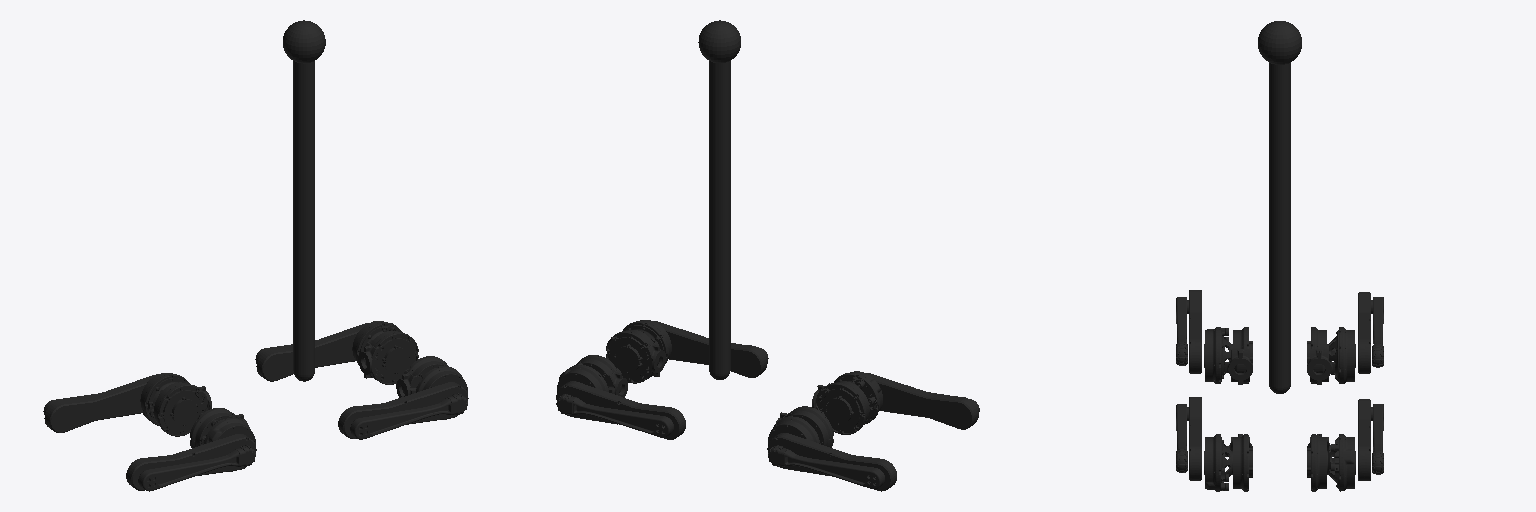
--- What the picture shows (computed from the rendered views, not written in the file) ---
3 views of the same robot in one strip: view 1: azimuth 30°, elevation 25°; view 2: azimuth 150°, elevation 25°; view 3: azimuth 270°, elevation 25° (orthographic).
Model spirit with 20 links and 19 joints (14 revolute, 5 fixed), rooted at body, posed every joint at zero.
Visible links, largest first — view 1: tail_link_1, hip1, hip0, upper1, upper0, upper3, upper2, lower2, lower3, hip2, hip3, tail_mass; view 2: tail_link_1, hip3, hip2, upper3, upper2, upper0, upper1, lower1, lower0, hip0, hip1, tail_mass; view 3: tail_link_1, hip2, hip3, hip0, hip1, tail_mass, upper2, upper3, upper0, upper1, lower0, lower1 (+2 smaller).
Boxes of the visible links, <box> form: tail_link_1: <box>293,61,314,374</box>; hip1: <box>140,373,211,436</box>; hip0: <box>352,321,418,384</box>; upper1: <box>44,374,157,432</box>; upper0: <box>256,323,367,381</box>; upper3: <box>126,434,256,490</box>; upper2: <box>338,382,468,438</box>; lower2: <box>350,393,467,439</box>; lower3: <box>138,445,255,491</box>; hip2: <box>396,356,467,419</box>; hip3: <box>190,408,255,471</box>; tail_mass: <box>283,20,325,63</box>; tail_link_1: <box>709,61,730,373</box>; hip3: <box>812,371,882,434</box>; hip2: <box>606,320,671,383</box>; upper3: <box>866,373,978,429</box>; upper2: <box>654,321,767,377</box>; upper0: <box>556,381,685,439</box>; upper1: <box>767,433,896,491</box>; lower1: <box>768,445,884,488</box>; lower0: <box>556,394,673,437</box>; hip0: <box>557,355,627,397</box>; hip1: <box>768,406,833,447</box>; tail_mass: <box>698,20,740,62</box>; tail_link_1: <box>1269,63,1290,387</box>; hip2: <box>1204,434,1252,491</box>; hip3: <box>1204,327,1252,384</box>; hip0: <box>1307,434,1355,491</box>; hip1: <box>1307,327,1355,384</box>; tail_mass: <box>1258,21,1301,64</box>; upper2: <box>1189,397,1201,480</box>; upper3: <box>1189,290,1201,373</box>; upper0: <box>1358,399,1370,480</box>; upper1: <box>1358,292,1370,373</box>; lower0: <box>1371,404,1383,474</box>; lower1: <box>1371,297,1383,367</box>.
Size in the robot's own frame: 0.7392 by 0.3719 by 0.8136 metres.
12 mesh visuals loaded from 4 distinct referenced files (3 binary STL); not drawn: 1 (reference not matched to a file when rendering).

URDF robot description (spirit):
<?xml version="1.0" encoding="utf-8"?>
<!-- =================================================================================== -->
<!-- |    This document was autogenerated by xacro from spirit40_gaz.urdf.xacro        | -->
<!-- |    EDITING THIS FILE BY HAND IS NOT RECOMMENDED                                 | -->
<!-- =================================================================================== -->
<!--
 * Copyright (C) Ghost Robotics - All Rights Reserved
 * Unauthorized copying of this file, via any medium is strictly prohibited
 * Proprietary and confidential
 * Written by Avik De <[email redacted]> and Tom Jacobs <[email redacted]>
-->
<robot name="spirit">
  <!-- Define materials -->
  <material name="gray">
    <color rgba="0.2 0.2 0.2 1.0"/>
  </material>
  <material name="darkgray">
    <color rgba="0.1 0.1 0.1 1.0"/>
  </material>
  <material name="silver">
    <color rgba="0.3 0.3 0.3 1.0"/>
  </material>
  <material name="red">
    <color rgba="0.8 0.0 0.2 1.0"/>
  </material>
  <!-- Body -->
  <link name="body">
    <!--		<visual>-->
    <!--			<origin rpy="0 0 0" xyz="0 0 0"/>-->
    <!--			<geometry>-->
    <!--				<box size="${bodyLength} ${bodyWidth} ${bodyHeight}"/>-->
    <!--			</geometry>-->
    <!--			<material name="darkgray"/>-->
    <!--		</visual>-->
    <visual>
      <origin rpy="0 0 0" xyz="0.03 0 0"/>
      <geometry>
        <mesh filename="package://spirit_description/meshes/Spirit40_Body_Mesh_transformed.stl" scale="1 1 1"/>
      </geometry>
      <material name="gray"/>
    </visual>
    <inertial>
      <mass value="5.75"/>
      <!-- Uniform box -->
      <!-- <inertia ixx="1/12*${bodyMass}*(${bodyWidth}*${bodyWidth} + ${bodyHeight}*${bodyHeight})"  ixy="0"  ixz="0" iyy="1/12*${bodyMass}*(${bodyLength}*${bodyLength} + ${bodyHeight}*${bodyHeight})" iyz="0" izz="1/12*${bodyMass}*(${bodyLength}*${bodyLength} + ${bodyWidth}*${bodyWidth})"/> -->
      <inertia ixx="0.05" ixy="0" ixz="0" iyy="0.1" iyz="0" izz="0.1"/>
    </inertial>
    <!-- Just copy geometry for collision -->
    <collision>
      <origin rpy="0 0 0" xyz="0 0 0"/>
      <geometry>
        <box size="0.335 0.24 0.104"/>
      </geometry>
    </collision>
  </link>
  <gazebo reference="body">
    <gravity>true</gravity>
    <sensor name="imu_sensor" type="imu">
      <always_on>true</always_on>
      <visualize>true</visualize>
      <topic>__default_topic_</topic>
      <plugin filename="libgazebo_ros_imu_sensor.so" name="imu_plugin">
        <topicName>imu</topicName>
        <bodyName>body</bodyName>
        <updateRateHZ>500.0</updateRateHZ>
        <gaussianNoise>0.0</gaussianNoise>
        <xyzOffset>0 0 0</xyzOffset>
        <rpyOffset>0 0 0</rpyOffset>
        <frameName>body</frameName>
        <initialOrientationAsReference>true</initialOrientationAsReference>
      </plugin>
      <pose>0 0 0 0 0 0</pose>
    </sensor>
  </gazebo>
  <!-- Hip motor -->
  <link name="hip0">
    <!--			<visual>-->
    <!--				<origin rpy="${pi/2} 0 0" xyz="${front * 0} ${left * (dPodAxisToEdge)} 0"/>-->
    <!--				<geometry>-->
    <!--					<cylinder length="${podLength}" radius="${podRadius}"/>-->
    <!--				</geometry>-->
    <!--				<material name="${color}"/>-->
    <!--			</visual>-->
    <visual>
      <origin rpy="0 0 0" xyz="0 0.0 0"/>
      <geometry>
        <mesh filename="package://spirit_description/meshes/Spirit40_Hip_Module_transformed.stl" scale="1 1 1"/>
      </geometry>
      <material name="gray"/>
    </visual>
    <collision>
      <origin rpy="1.5707963268 0 0" xyz="0 0.028 0"/>
      <geometry>
        <cylinder length="0.08" radius="0.055"/>
      </geometry>
    </collision>
    <inertial>
      <mass value="0.575"/>
      <!-- <inertia ixx="1/12*${podMass}*${podLength}*${podLength} + 1/4*${podMass}*${podRadius}*${podRadius}"  ixy="0"  ixz="0" iyy="1/12*${podMass}*${podLength}*${podLength} + 1/4*${podMass}*${podRadius}*${podRadius}" iyz="0" izz="1/2*${podMass}*${podRadius}*$
				{podRadius}" /> -->
      <inertia ixx="0.00066963541" ixy="0" ixz="0" iyy="0.00066963541" iyz="0" izz="0.0008696875"/>
    </inertial>
  </link>
  <gazebo reference="hip0">
    <material>Gazebo/Gray</material>
  </gazebo>
  <!-- Abduction joint. Joint names are: 8 9 10 11 -->
  <joint name="8" type="revolute">
    <parent link="body"/>
    <child link="hip0"/>
    <axis xyz="1 0 0"/>
    <origin xyz="0.2263 0.07 0"/>
    <limit effort="40" lower="-0.707" upper="0.707" velocity="30"/>
    <dynamics damping="0.0" friction="0.0"/>
  </joint>
  <!-- Transmission elements required for Gazebo -->
  <transmission name="transmission_8">
    <type>transmission_interface/SimpleTransmission</type>
    <joint name="8">
      <hardwareInterface>hardware_interface/EffortJointInterface</hardwareInterface>
    </joint>
    <actuator name="motor_8">
      <hardwareInterface>EffortJointInterface</hardwareInterface>
      <mechanicalReduction>1</mechanicalReduction>
    </actuator>
  </transmission>
  <!-- Upper leg -->
  <link name="upper0">
    <!--			<visual>-->
    <!--				<origin rpy="0 0 0" xyz="-${upperLegLength/2} ${-left*upperLegWidth} 0"/>-->
    <!--				<geometry>-->
    <!--					<box size="${upperLegLength} ${upperLegWidth} ${upperLegHeight}"/>-->
    <!--				</geometry>-->
    <!--				<material name="silver"/>-->
    <!--			</visual>-->
    <visual>
      <origin rpy="0 0  0" xyz="0 -0.02 0"/>
      <geometry>
        <mesh filename="package://spirit_description/meshes/Spirit40_Upper_leg_transformed.stl" scale="1 1 1"/>
      </geometry>
      <material name="gray"/>
    </visual>
    <collision>
      <origin rpy="0 0 0" xyz="-0.103 -0.022 0"/>
      <geometry>
        <box size="0.206 0.022 0.055"/>
      </geometry>
    </collision>
    <inertial>
      <mass value="0.775"/>
      <inertia ixx="5e-05" ixy="0" ixz="0" iyy="0.001" iyz="0" izz="0.001"/>
    </inertial>
  </link>
  <gazebo reference="upper0">
    <material>Gazebo/Gray</material>
  </gazebo>
  <!-- Hip joint. (Motor to upper leg). Joint names are: 0 2 4 6 -->
  <joint name="0" type="revolute">
    <parent link="hip0"/>
    <child link="upper0"/>
    <axis xyz="0 -1 0"/>
    <origin xyz="0 0.10098 0"/>
    <!--  rpy="0 -0.3 0" -->
    <limit effort="40" lower="-6.28318530718" upper="6.28318530718" velocity="30"/>
    <dynamics damping="0.0" friction="0.0"/>
  </joint>
  <!-- Transmission elements required for Gazebo -->
  <transmission name="transmission_0">
    <type>transmission_interface/SimpleTransmission</type>
    <joint name="0">
      <hardwareInterface>hardware_interface/EffortJointInterface</hardwareInterface>
    </joint>
    <actuator name="motor_0">
      <hardwareInterface>EffortJointInterface</hardwareInterface>
      <mechanicalReduction>1</mechanicalReduction>
    </actuator>
  </transmission>
  <!-- Lower leg -->
  <link name="lower0">
    <!--			<visual>-->
    <!--				<origin rpy="0 ${pi/2} 0" xyz="${lowerLegLength/2} 0 0"/>-->
    <!--				<geometry>-->
    <!--					<cylinder length="${lowerLegLength}" radius="${lowerLegRadius}"/>-->
    <!--				</geometry>-->
    <!--				<material name="darkgray"/>-->
    <!--			</visual>-->
    <visual>
      <origin rpy="0 0  0" xyz="0 0 0"/>
      <geometry>
        <mesh filename="package://spirit_description/meshes/Spirit40_Lower_Leg_transformed.stl" scale="1 1 1"/>
      </geometry>
      <material name="gray"/>
    </visual>
    <collision>
      <origin rpy="0 1.5707963268 0" xyz="0.103 0 0"/>
      <geometry>
        <cylinder length="0.206" radius="0.013"/>
      </geometry>
    </collision>
    <inertial>
      <mass value="0.075"/>
      <inertia ixx="5e-06" ixy="0" ixz="0" iyy="0.0001" iyz="0" izz="0.0001"/>
    </inertial>
  </link>
  <gazebo reference="lower0">
    <material>Gazebo/Black</material>
  </gazebo>
  <!-- Knee joint. Joint names are: 1 3 5 7 -->
  <joint name="1" type="revolute">
    <parent link="upper0"/>
    <child link="lower0"/>
    <axis xyz="0 1 0"/>
    <origin xyz="-0.206 0 0"/>
    <!--rpy="0 0.5 0"-->
    <limit effort="40" lower="0" upper="3.14159265359" velocity="30"/>
    <dynamics damping="0.0" friction="0.0"/>
  </joint>
  <!-- Transmission elements required for Gazebo -->
  <transmission name="transmission_1">
    <type>transmission_interface/SimpleTransmission</type>
    <joint name="1">
      <hardwareInterface>hardware_interface/EffortJointInterface</hardwareInterface>
    </joint>
    <actuator name="motor_1">
      <hardwareInterface>EffortJointInterface</hardwareInterface>
      <mechanicalReduction>1</mechanicalReduction>
    </actuator>
  </transmission>
  <!-- Toe -->
  <link name="toe0">
    <contact>
      <friction_anchor/>
      <stiffness value="30000.0"/>
      <damping value="1000.0"/>
      <spinning_friction value="0.3"/>
      <lateral_friction value="50.0"/>
    </contact>
    <visual>
      <origin rpy="0 0 0" xyz="0 0 0"/>
      <geometry>
        <!--					<sphere radius="${toeRadius}"/>-->
        <sphere radius="0.001"/>
      </geometry>
      <material name="darkgray"/>
    </visual>
    <collision>
      <origin rpy="0 0 0" xyz="0 0 0"/>
      <geometry>
        <sphere radius="0.02"/>
      </geometry>
      <surface>
        <friction>
          <ode>
            <mu>100000</mu>
            <mu2>100000</mu2>
          </ode>
        </friction>
        <contact>
          <ode>
            <kp>30000.0</kp>
            <kd>1000.0</kd>
          </ode>
        </contact>
      </surface>
    </collision>
    <inertial>
      <mass value="0.015"/>
      <inertia ixx="0.000025" ixy="0" ixz="0" iyy="0.000025" iyz="0" izz="0.000025"/>
      <!-- <inertia ixx="2/5*${toeMass}*${toeRadius}*${toeRadius}"  ixy="0"  ixz="0" iyy="2/5*${toeMass}*${toeRadius}*${toeRadius}" iyz="0" izz="2/5*${toeMass}*${toeRadius}*${toeRadius}" /> -->
    </inertial>
  </link>
  <gazebo reference="toe0">
    <material>Gazebo/DarkGray</material>
    <collision>
      <surface>
        <bounce>
          <restitution_coefficient>0</restitution_coefficient>
          <threshold>1e+06</threshold>
        </bounce>
        <friction>
          <torsional>
            <coefficient>0.3</coefficient>
          </torsional>
          <ode>
            <mu>100.0</mu>
            <mu2>50.0</mu2>
          </ode>
          <bullet>
            <rolling_friction>0.3</rolling_friction>
            <friction2>50.0</friction2>
          </bullet>
        </friction>
        <contact>
          <bullet>
            <kp>30000.0</kp>
            <kd>1000.0</kd>
          </bullet>
          <ode>
            <kp>30000.0</kp>
            <kd>1000.0</kd>
          </ode>
        </contact>
      </surface>
    </collision>
  </gazebo>
  <joint name="jtoe0" type="fixed">
    <parent link="lower0"/>
    <child link="toe0"/>
    <origin xyz="0.206 0 -0.0"/>
    <dynamics damping="0.0" friction="0.0"/>
  </joint>
  <!-- Hip motor -->
  <link name="hip1">
    <!--			<visual>-->
    <!--				<origin rpy="${pi/2} 0 0" xyz="${front * 0} ${left * (dPodAxisToEdge)} 0"/>-->
    <!--				<geometry>-->
    <!--					<cylinder length="${podLength}" radius="${podRadius}"/>-->
    <!--				</geometry>-->
    <!--				<material name="${color}"/>-->
    <!--			</visual>-->
    <visual>
      <origin rpy="0 3.14159265359 0" xyz="0.0 0.0 0"/>
      <geometry>
        <mesh filename="package://spirit_description/meshes/Spirit40_Hip_Module_transformed.stl" scale="1 1 1"/>
      </geometry>
      <material name="gray"/>
    </visual>
    <collision>
      <origin rpy="1.5707963268 0 0" xyz="0 0.028 0"/>
      <geometry>
        <cylinder length="0.08" radius="0.055"/>
      </geometry>
    </collision>
    <inertial>
      <mass value="0.575"/>
      <!-- <inertia ixx="1/12*${podMass}*${podLength}*${podLength} + 1/4*${podMass}*${podRadius}*${podRadius}"  ixy="0"  ixz="0" iyy="1/12*${podMass}*${podLength}*${podLength} + 1/4*${podMass}*${podRadius}*${podRadius}" iyz="0" izz="1/2*${podMass}*${podRadius}*$
				{podRadius}" /> -->
      <inertia ixx="0.00066963541" ixy="0" ixz="0" iyy="0.00066963541" iyz="0" izz="0.0008696875"/>
    </inertial>
  </link>
  <gazebo reference="hip1">
    <material>Gazebo/Gray</material>
  </gazebo>
  <!-- Abduction joint. Joint names are: 8 9 10 11 -->
  <joint name="9" type="revolute">
    <parent link="body"/>
    <child link="hip1"/>
    <axis xyz="1 0 0"/>
    <origin xyz="-0.2263 0.07 0"/>
    <limit effort="40" lower="-0.707" upper="0.707" velocity="30"/>
    <dynamics damping="0.0" friction="0.0"/>
  </joint>
  <!-- Transmission elements required for Gazebo -->
  <transmission name="transmission_9">
    <type>transmission_interface/SimpleTransmission</type>
    <joint name="9">
      <hardwareInterface>hardware_interface/EffortJointInterface</hardwareInterface>
    </joint>
    <actuator name="motor_9">
      <hardwareInterface>EffortJointInterface</hardwareInterface>
      <mechanicalReduction>1</mechanicalReduction>
    </actuator>
  </transmission>
  <!-- Upper leg -->
  <link name="upper1">
    <!--			<visual>-->
    <!--				<origin rpy="0 0 0" xyz="-${upperLegLength/2} ${-left*upperLegWidth} 0"/>-->
    <!--				<geometry>-->
    <!--					<box size="${upperLegLength} ${upperLegWidth} ${upperLegHeight}"/>-->
    <!--				</geometry>-->
    <!--				<material name="silver"/>-->
    <!--			</visual>-->
    <visual>
      <origin rpy="0 0  0" xyz="0 -0.02 0"/>
      <geometry>
        <mesh filename="package://spirit_description/meshes/Spirit40_Upper_leg_transformed.stl" scale="1 1 1"/>
      </geometry>
      <material name="gray"/>
    </visual>
    <collision>
      <origin rpy="0 0 0" xyz="-0.103 -0.022 0"/>
      <geometry>
        <box size="0.206 0.022 0.055"/>
      </geometry>
    </collision>
    <inertial>
      <mass value="0.775"/>
      <inertia ixx="5e-05" ixy="0" ixz="0" iyy="0.001" iyz="0" izz="0.001"/>
    </inertial>
  </link>
  <gazebo reference="upper1">
    <material>Gazebo/Gray</material>
  </gazebo>
  <!-- Hip joint. (Motor to upper leg). Joint names are: 0 2 4 6 -->
  <joint name="2" type="revolute">
    <parent link="hip1"/>
    <child link="upper1"/>
    <axis xyz="0 -1 0"/>
    <origin xyz="0 0.10098 0"/>
    <!--  rpy="0 -0.3 0" -->
    <limit effort="40" lower="-6.28318530718" upper="6.28318530718" velocity="30"/>
    <dynamics damping="0.0" friction="0.0"/>
  </joint>
  <!-- Transmission elements required for Gazebo -->
  <transmission name="transmission_2">
    <type>transmission_interface/SimpleTransmission</type>
    <joint name="2">
      <hardwareInterface>hardware_interface/EffortJointInterface</hardwareInterface>
    </joint>
    <actuator name="motor_2">
      <hardwareInterface>EffortJointInterface</hardwareInterface>
      <mechanicalReduction>1</mechanicalReduction>
    </actuator>
  </transmission>
  <!-- Lower leg -->
  <link name="lower1">
    <!--			<visual>-->
    <!--				<origin rpy="0 ${pi/2} 0" xyz="${lowerLegLength/2} 0 0"/>-->
    <!--				<geometry>-->
    <!--					<cylinder length="${lowerLegLength}" radius="${lowerLegRadius}"/>-->
    <!--				</geometry>-->
    <!--				<material name="darkgray"/>-->
    <!--			</visual>-->
    <visual>
      <origin rpy="0 0  0" xyz="0 0 0"/>
      <geometry>
        <mesh filename="package://spirit_description/meshes/Spirit40_Lower_Leg_transformed.stl" scale="1 1 1"/>
      </geometry>
      <material name="gray"/>
    </visual>
    <collision>
      <origin rpy="0 1.5707963268 0" xyz="0.103 0 0"/>
      <geometry>
        <cylinder length="0.206" radius="0.013"/>
      </geometry>
    </collision>
    <inertial>
      <mass value="0.075"/>
      <inertia ixx="5e-06" ixy="0" ixz="0" iyy="0.0001" iyz="0" izz="0.0001"/>
    </inertial>
  </link>
  <gazebo reference="lower1">
    <material>Gazebo/Black</material>
  </gazebo>
  <!-- Knee joint. Joint names are: 1 3 5 7 -->
  <joint name="3" type="revolute">
    <parent link="upper1"/>
    <child link="lower1"/>
    <axis xyz="0 1 0"/>
    <origin xyz="-0.206 0 0"/>
    <!--rpy="0 0.5 0"-->
    <limit effort="40" lower="0" upper="3.14159265359" velocity="30"/>
    <dynamics damping="0.0" friction="0.0"/>
  </joint>
  <!-- Transmission elements required for Gazebo -->
  <transmission name="transmission_3">
    <type>transmission_interface/SimpleTransmission</type>
    <joint name="3">
      <hardwareInterface>hardware_interface/EffortJointInterface</hardwareInterface>
    </joint>
    <actuator name="motor_3">
      <hardwareInterface>EffortJointInterface</hardwareInterface>
      <mechanicalReduction>1</mechanicalReduction>
    </actuator>
  </transmission>
  <!-- Toe -->
  <link name="toe1">
    <contact>
      <friction_anchor/>
      <stiffness value="30000.0"/>
      <damping value="1000.0"/>
      <spinning_friction value="0.3"/>
      <lateral_friction value="50.0"/>
    </contact>
    <visual>
      <origin rpy="0 0 0" xyz="0 0 0"/>
      <geometry>
        <!--					<sphere radius="${toeRadius}"/>-->
        <sphere radius="0.001"/>
      </geometry>
      <material name="darkgray"/>
    </visual>
    <collision>
      <origin rpy="0 0 0" xyz="0 0 0"/>
      <geometry>
        <sphere radius="0.02"/>
      </geometry>
      <surface>
        <friction>
          <ode>
            <mu>100000</mu>
            <mu2>100000</mu2>
          </ode>
        </friction>
        <contact>
          <ode>
            <kp>30000.0</kp>
            <kd>1000.0</kd>
          </ode>
        </contact>
      </surface>
    </collision>
    <inertial>
      <mass value="0.015"/>
      <inertia ixx="0.000025" ixy="0" ixz="0" iyy="0.000025" iyz="0" izz="0.000025"/>
      <!-- <inertia ixx="2/5*${toeMass}*${toeRadius}*${toeRadius}"  ixy="0"  ixz="0" iyy="2/5*${toeMass}*${toeRadius}*${toeRadius}" iyz="0" izz="2/5*${toeMass}*${toeRadius}*${toeRadius}" /> -->
    </inertial>
  </link>
  <gazebo reference="toe1">
    <material>Gazebo/DarkGray</material>
    <collision>
      <surface>
        <bounce>
          <restitution_coefficient>0</restitution_coefficient>
          <threshold>1e+06</threshold>
        </bounce>
        <friction>
          <torsional>
            <coefficient>0.3</coefficient>
          </torsional>
          <ode>
            <mu>100.0</mu>
            <mu2>50.0</mu2>
          </ode>
          <bullet>
            <rolling_friction>0.3</rolling_friction>
            <friction2>50.0</friction2>
          </bullet>
        </friction>
        <contact>
          <bullet>
            <kp>30000.0</kp>
            <kd>1000.0</kd>
          </bullet>
          <ode>
            <kp>30000.0</kp>
            <kd>1000.0</kd>
          </ode>
        </contact>
      </surface>
    </collision>
  </gazebo>
  <joint name="jtoe1" type="fixed">
    <parent link="lower1"/>
    <child link="toe1"/>
    <origin xyz="0.206 0 -0.0"/>
    <dynamics damping="0.0" friction="0.0"/>
  </joint>
  <!-- Hip motor -->
  <link name="hip2">
    <!--			<visual>-->
    <!--				<origin rpy="${pi/2} 0 0" xyz="${front * 0} ${left * (dPodAxisToEdge)} 0"/>-->
    <!--				<geometry>-->
    <!--					<cylinder length="${podLength}" radius="${podRadius}"/>-->
    <!--				</geometry>-->
    <!--				<material name="${color}"/>-->
    <!--			</visual>-->
    <visual>
      <origin rpy="3.14159265359 0 0" xyz="0.0 0 0.0"/>
      <geometry>
        <mesh filename="package://spirit_description/meshes/Spirit40_Hip_Module_transformed.stl" scale="1 1 1"/>
      </geometry>
      <material name="gray"/>
    </visual>
    <collision>
      <origin rpy="1.5707963268 0 0" xyz="0 -0.028 0"/>
      <geometry>
        <cylinder length="0.08" radius="0.055"/>
      </geometry>
    </collision>
    <inertial>
      <mass value="0.575"/>
      <!-- <inertia ixx="1/12*${podMass}*${podLength}*${podLength} + 1/4*${podMass}*${podRadius}*${podRadius}"  ixy="0"  ixz="0" iyy="1/12*${podMass}*${podLength}*${podLength} + 1/4*${podMass}*${podRadius}*${podRadius}" iyz="0" izz="1/2*${podMass}*${podRadius}*$
				{podRadius}" /> -->
      <inertia ixx="0.00066963541" ixy="0" ixz="0" iyy="0.00066963541" iyz="0" izz="0.0008696875"/>
    </inertial>
  </link>
  <gazebo reference="hip2">
    <material>Gazebo/Gray</material>
  </gazebo>
  <!-- Abduction joint. Joint names are: 8 9 10 11 -->
  <joint name="10" type="revolute">
    <parent link="body"/>
    <child link="hip2"/>
    <axis xyz="1 0 0"/>
    <origin xyz="0.2263 -0.07 0"/>
    <limit effort="40" lower="-0.707" upper="0.707" velocity="30"/>
    <dynamics damping="0.0" friction="0.0"/>
  </joint>
  <!-- Transmission elements required for Gazebo -->
  <transmission name="transmission_10">
    <type>transmission_interface/SimpleTransmission</type>
    <joint name="10">
      <hardwareInterface>hardware_interface/EffortJointInterface</hardwareInterface>
    </joint>
    <actuator name="motor_10">
      <hardwareInterface>EffortJointInterface</hardwareInterface>
      <mechanicalReduction>1</mechanicalReduction>
    </actuator>
  </transmission>
  <!-- Upper leg -->
  <link name="upper2">
    <!--			<visual>-->
    <!--				<origin rpy="0 0 0" xyz="-${upperLegLength/2} ${-left*upperLegWidth} 0"/>-->
    <!--				<geometry>-->
    <!--					<box size="${upperLegLength} ${upperLegWidth} ${upperLegHeight}"/>-->
    <!--				</geometry>-->
    <!--				<material name="silver"/>-->
    <!--			</visual>-->
    <visual>
      <origin rpy="3.14159265359 0  0" xyz="0 0.02 0"/>
      <geometry>
        <mesh filename="package://spirit_description/meshes/Spirit40_Upper_leg_transformed.stl" scale="1 1 1"/>
      </geometry>
      <material name="gray"/>
    </visual>
    <collision>
      <origin rpy="0 0 0" xyz="-0.103 0.022 0"/>
      <geometry>
        <box size="0.206 0.022 0.055"/>
      </geometry>
    </collision>
    <inertial>
      <mass value="0.775"/>
      <inertia ixx="5e-05" ixy="0" ixz="0" iyy="0.001" iyz="0" izz="0.001"/>
    </inertial>
  </link>
  <gazebo reference="upper2">
    <material>Gazebo/Gray</material>
  </gazebo>
  <!-- Hip joint. (Motor to upper leg). Joint names are: 0 2 4 6 -->
  <joint name="4" type="revolute">
    <parent link="hip2"/>
    <child link="upper2"/>
    <axis xyz="0 -1 0"/>
    <origin xyz="0 -0.10098 0"/>
    <!--  rpy="0 -0.3 0" -->
    <limit effort="40" lower="-6.28318530718" upper="6.28318530718" velocity="30"/>
    <dynamics damping="0.0" friction="0.0"/>
  </joint>
  <!-- Transmission elements required for Gazebo -->
  <transmission name="transmission_4">
    <type>transmission_interface/SimpleTransmission</type>
    <joint name="4">
      <hardwareInterface>hardware_interface/EffortJointInterface</hardwareInterface>
    </joint>
    <actuator name="motor_4">
      <hardwareInterface>EffortJointInterface</hardwareInterface>
      <mechanicalReduction>1</mechanicalReduction>
    </actuator>
  </transmission>
  <!-- Lower leg -->
  <link name="lower2">
    <!--			<visual>-->
    <!--				<origin rpy="0 ${pi/2} 0" xyz="${lowerLegLength/2} 0 0"/>-->
    <!--				<geometry>-->
    <!--					<cylinder length="${lowerLegLength}" radius="${lowerLegRadius}"/>-->
    <!--				</geometry>-->
    <!--				<material name="darkgray"/>-->
    <!--			</visual>-->
    <visual>
      <origin rpy="3.14159265359 0  0" xyz="0 0 0"/>
      <geometry>
        <mesh filename="package://spirit_description/meshes/Spirit40_Lower_Leg_transformed.stl" scale="1 1 1"/>
      </geometry>
      <material name="gray"/>
    </visual>
    <collision>
      <origin rpy="0 1.5707963268 0" xyz="0.103 0 0"/>
      <geometry>
        <cylinder length="0.206" radius="0.013"/>
      </geometry>
    </collision>
    <inertial>
      <mass value="0.075"/>
      <inertia ixx="5e-06" ixy="0" ixz="0" iyy="0.0001" iyz="0" izz="0.0001"/>
    </inertial>
  </link>
  <gazebo reference="lower2">
    <material>Gazebo/Black</material>
  </gazebo>
  <!-- Knee joint. Joint names are: 1 3 5 7 -->
  <joint name="5" type="revolute">
    <parent link="upper2"/>
    <child link="lower2"/>
    <axis xyz="0 1 0"/>
    <origin xyz="-0.206 0 0"/>
    <!--rpy="0 0.5 0"-->
    <limit effort="40" lower="0" upper="3.14159265359" velocity="30"/>
    <dynamics damping="0.0" friction="0.0"/>
  </joint>
  <!-- Transmission elements required for Gazebo -->
  <transmission name="transmission_5">
    <type>transmission_interface/SimpleTransmission</type>
    <joint name="5">
      <hardwareInterface>hardware_interface/EffortJointInterface</hardwareInterface>
    </joint>
    <actuator name="motor_5">
      <hardwareInterface>EffortJointInterface</hardwareInterface>
      <mechanicalReduction>1</mechanicalReduction>
    </actuator>
  </transmission>
  <!-- Toe -->
  <link name="toe2">
    <contact>
      <friction_anchor/>
      <stiffness value="30000.0"/>
      <damping value="1000.0"/>
      <spinning_friction value="0.3"/>
      <lateral_friction value="50.0"/>
    </contact>
    <visual>
      <origin rpy="0 0 0" xyz="0 0 0"/>
      <geometry>
        <!--					<sphere radius="${toeRadius}"/>-->
        <sphere radius="0.001"/>
      </geometry>
      <material name="darkgray"/>
    </visual>
    <collision>
      <origin rpy="0 0 0" xyz="0 0 0"/>
      <geometry>
        <sphere radius="0.02"/>
      </geometry>
      <surface>
        <friction>
          <ode>
            <mu>100000</mu>
            <mu2>100000</mu2>
          </ode>
        </friction>
        <contact>
          <ode>
            <kp>30000.0</kp>
            <kd>1000.0</kd>
          </ode>
        </contact>
      </surface>
    </collision>
    <inertial>
      <mass value="0.015"/>
      <inertia ixx="0.000025" ixy="0" ixz="0" iyy="0.000025" iyz="0" izz="0.000025"/>
      <!-- <inertia ixx="2/5*${toeMass}*${toeRadius}*${toeRadius}"  ixy="0"  ixz="0" iyy="2/5*${toeMass}*${toeRadius}*${toeRadius}" iyz="0" izz="2/5*${toeMass}*${toeRadius}*${toeRadius}" /> -->
    </inertial>
  </link>
  <gazebo reference="toe2">
    <material>Gazebo/DarkGray</material>
    <collision>
      <surface>
        <bounce>
          <restitution_coefficient>0</restitution_coefficient>
          <threshold>1e+06</threshold>
        </bounce>
        <friction>
          <torsional>
            <coefficient>0.3</coefficient>
          </torsional>
          <ode>
            <mu>100.0</mu>
            <mu2>50.0</mu2>
          </ode>
          <bullet>
            <rolling_friction>0.3</rolling_friction>
            <friction2>50.0</friction2>
          </bullet>
        </friction>
        <contact>
          <bullet>
            <kp>30000.0</kp>
            <kd>1000.0</kd>
          </bullet>
          <ode>
            <kp>30000.0</kp>
            <kd>1000.0</kd>
          </ode>
        </contact>
      </surface>
    </collision>
  </gazebo>
  <joint name="jtoe2" type="fixed">
    <parent link="lower2"/>
    <child link="toe2"/>
    <origin xyz="0.206 0 -0.0"/>
    <dynamics damping="0.0" friction="0.0"/>
  </joint>
  <!-- Hip motor -->
  <link name="hip3">
    <!--			<visual>-->
    <!--				<origin rpy="${pi/2} 0 0" xyz="${front * 0} ${left * (dPodAxisToEdge)} 0"/>-->
    <!--				<geometry>-->
    <!--					<cylinder length="${podLength}" radius="${podRadius}"/>-->
    <!--				</geometry>-->
    <!--				<material name="${color}"/>-->
    <!--			</visual>-->
    <visual>
      <origin rpy="3.14159265359 3.14159265359 0" xyz="0.0 0.0 0.0"/>
      <geometry>
        <mesh filename="package://spirit_description/meshes/Spirit40_Hip_Module_transformed.stl" scale="1 1 1"/>
      </geometry>
      <material name="gray"/>
    </visual>
    <collision>
      <origin rpy="1.5707963268 0 0" xyz="0 -0.028 0"/>
      <geometry>
        <cylinder length="0.08" radius="0.055"/>
      </geometry>
    </collision>
    <inertial>
      <mass value="0.575"/>
      <!-- <inertia ixx="1/12*${podMass}*${podLength}*${podLength} + 1/4*${podMass}*${podRadius}*${podRadius}"  ixy="0"  ixz="0" iyy="1/12*${podMass}*${podLength}*${podLength} + 1/4*${podMass}*${podRadius}*${podRadius}" iyz="0" izz="1/2*${podMass}*${podRadius}*$
				{podRadius}" /> -->
      <inertia ixx="0.00066963541" ixy="0" ixz="0" iyy="0.00066963541" iyz="0" izz="0.0008696875"/>
    </inertial>
  </link>
  <gazebo reference="hip3">
    <material>Gazebo/Gray</material>
  </gazebo>
  <!-- Abduction joint. Joint names are: 8 9 10 11 -->
  <joint name="11" type="revolute">
    <parent link="body"/>
    <child link="hip3"/>
    <axis xyz="1 0 0"/>
    <origin xyz="-0.2263 -0.07 0"/>
    <limit effort="40" lower="-0.707" upper="0.707" velocity="30"/>
    <dynamics damping="0.0" friction="0.0"/>
  </joint>
  <!-- Transmission elements required for Gazebo -->
  <transmission name="transmission_11">
    <type>transmission_interface/SimpleTransmission</type>
    <joint name="11">
      <hardwareInterface>hardware_interface/EffortJointInterface</hardwareInterface>
    </joint>
    <actuator name="motor_11">
      <hardwareInterface>EffortJointInterface</hardwareInterface>
      <mechanicalReduction>1</mechanicalReduction>
    </actuator>
  </transmission>
  <!-- Upper leg -->
  <link name="upper3">
    <!--			<visual>-->
    <!--				<origin rpy="0 0 0" xyz="-${upperLegLength/2} ${-left*upperLegWidth} 0"/>-->
    <!--				<geometry>-->
    <!--					<box size="${upperLegLength} ${upperLegWidth} ${upperLegHeight}"/>-->
    <!--				</geometry>-->
    <!--				<material name="silver"/>-->
    <!--			</visual>-->
    <visual>
      <origin rpy="3.14159265359 0  0" xyz="0 0.02 0"/>
      <geometry>
        <mesh filename="package://spirit_description/meshes/Spirit40_Upper_leg_transformed.stl" scale="1 1 1"/>
      </geometry>
      <material name="gray"/>
    </visual>
    <collision>
      <origin rpy="0 0 0" xyz="-0.103 0.022 0"/>
      <geometry>
        <box size="0.206 0.022 0.055"/>
      </geometry>
    </collision>
    <inertial>
      <mass value="0.775"/>
      <inertia ixx="5e-05" ixy="0" ixz="0" iyy="0.001" iyz="0" izz="0.001"/>
    </inertial>
  </link>
  <gazebo reference="upper3">
    <material>Gazebo/Gray</material>
  </gazebo>
  <!-- Hip joint. (Motor to upper leg). Joint names are: 0 2 4 6 -->
  <joint name="6" type="revolute">
    <parent link="hip3"/>
    <child link="upper3"/>
    <axis xyz="0 -1 0"/>
    <origin xyz="0 -0.10098 0"/>
    <!--  rpy="0 -0.3 0" -->
    <limit effort="40" lower="-6.28318530718" upper="6.28318530718" velocity="30"/>
    <dynamics damping="0.0" friction="0.0"/>
  </joint>
  <!-- Transmission elements required for Gazebo -->
  <transmission name="transmission_6">
    <type>transmission_interface/SimpleTransmission</type>
    <joint name="6">
      <hardwareInterface>hardware_interface/EffortJointInterface</hardwareInterface>
    </joint>
    <actuator name="motor_6">
      <hardwareInterface>EffortJointInterface</hardwareInterface>
      <mechanicalReduction>1</mechanicalReduction>
    </actuator>
  </transmission>
  <!-- Lower leg -->
  <link name="lower3">
    <!--			<visual>-->
    <!--				<origin rpy="0 ${pi/2} 0" xyz="${lowerLegLength/2} 0 0"/>-->
    <!--				<geometry>-->
    <!--					<cylinder length="${lowerLegLength}" radius="${lowerLegRadius}"/>-->
    <!--				</geometry>-->
    <!--				<material name="darkgray"/>-->
    <!--			</visual>-->
    <visual>
      <origin rpy="3.14159265359 0  0" xyz="0 0 0"/>
      <geometry>
        <mesh filename="package://spirit_description/meshes/Spirit40_Lower_Leg_transformed.stl" scale="1 1 1"/>
      </geometry>
      <material name="gray"/>
    </visual>
    <collision>
      <origin rpy="0 1.5707963268 0" xyz="0.103 0 0"/>
      <geometry>
        <cylinder length="0.206" radius="0.013"/>
      </geometry>
    </collision>
    <inertial>
      <mass value="0.075"/>
      <inertia ixx="5e-06" ixy="0" ixz="0" iyy="0.0001" iyz="0" izz="0.0001"/>
    </inertial>
  </link>
  <gazebo reference="lower3">
    <material>Gazebo/Black</material>
  </gazebo>
  <!-- Knee joint. Joint names are: 1 3 5 7 -->
  <joint name="7" type="revolute">
    <parent link="upper3"/>
    <child link="lower3"/>
    <axis xyz="0 1 0"/>
    <origin xyz="-0.206 0 0"/>
    <!--rpy="0 0.5 0"-->
    <limit effort="40" lower="0" upper="3.14159265359" velocity="30"/>
    <dynamics damping="0.0" friction="0.0"/>
  </joint>
  <!-- Transmission elements required for Gazebo -->
  <transmission name="transmission_7">
    <type>transmission_interface/SimpleTransmission</type>
    <joint name="7">
      <hardwareInterface>hardware_interface/EffortJointInterface</hardwareInterface>
    </joint>
    <actuator name="motor_7">
      <hardwareInterface>EffortJointInterface</hardwareInterface>
      <mechanicalReduction>1</mechanicalReduction>
    </actuator>
  </transmission>
  <!-- Toe -->
  <link name="toe3">
    <contact>
      <friction_anchor/>
      <stiffness value="30000.0"/>
      <damping value="1000.0"/>
      <spinning_friction value="0.3"/>
      <lateral_friction value="50.0"/>
    </contact>
    <visual>
      <origin rpy="0 0 0" xyz="0 0 0"/>
      <geometry>
        <!--					<sphere radius="${toeRadius}"/>-->
        <sphere radius="0.001"/>
      </geometry>
      <material name="darkgray"/>
    </visual>
    <collision>
      <origin rpy="0 0 0" xyz="0 0 0"/>
      <geometry>
        <sphere radius="0.02"/>
      </geometry>
      <surface>
        <friction>
          <ode>
            <mu>100000</mu>
            <mu2>100000</mu2>
          </ode>
        </friction>
        <contact>
          <ode>
            <kp>30000.0</kp>
            <kd>1000.0</kd>
          </ode>
        </contact>
      </surface>
    </collision>
    <inertial>
      <mass value="0.015"/>
      <inertia ixx="0.000025" ixy="0" ixz="0" iyy="0.000025" iyz="0" izz="0.000025"/>
      <!-- <inertia ixx="2/5*${toeMass}*${toeRadius}*${toeRadius}"  ixy="0"  ixz="0" iyy="2/5*${toeMass}*${toeRadius}*${toeRadius}" iyz="0" izz="2/5*${toeMass}*${toeRadius}*${toeRadius}" /> -->
    </inertial>
  </link>
  <gazebo reference="toe3">
    <material>Gazebo/DarkGray</material>
    <collision>
      <surface>
        <bounce>
          <restitution_coefficient>0</restitution_coefficient>
          <threshold>1e+06</threshold>
        </bounce>
        <friction>
          <torsional>
            <coefficient>0.3</coefficient>
          </torsional>
          <ode>
            <mu>100.0</mu>
            <mu2>50.0</mu2>
          </ode>
          <bullet>
            <rolling_friction>0.3</rolling_friction>
            <friction2>50.0</friction2>
          </bullet>
        </friction>
        <contact>
          <bullet>
            <kp>30000.0</kp>
            <kd>1000.0</kd>
          </bullet>
          <ode>
            <kp>30000.0</kp>
            <kd>1000.0</kd>
          </ode>
        </contact>
      </surface>
    </collision>
  </gazebo>
  <joint name="jtoe3" type="fixed">
    <parent link="lower3"/>
    <child link="toe3"/>
    <origin xyz="0.206 0 -0.0"/>
    <dynamics damping="0.0" friction="0.0"/>
  </joint>

  <!-- Tail link -->
  <link name="tail_link_0">
    <visual>
      <origin rpy="0 0 0" xyz="0 0 0"/>
      <geometry>
        <sphere radius="0.02"/>
      </geometry>
      <material name="gray"/>
    </visual>
    <inertial>
      <mass value="1e-03"/>
      <inertia ixx="1e-04" ixy="0" ixz="0" iyy="1e-04" iyz="0" izz="1e-04"/>
    </inertial>
  </link>
  <gazebo reference="tail_link_0">
    <material>Gazebo/Gray</material>
  </gazebo>
  <link name="tail_link_1">
    <visual>
      <origin rpy="0 0 0" xyz="0 0 0.3353"/>
      <geometry>
        <cylinder length="0.6706" radius="0.02"/>
      </geometry>
      <material name="gray"/>
    </visual>
    <inertial>
      <mass value="1e-03"/>
      <inertia ixx="1e-04" ixy="0" ixz="0" iyy="1e-04" iyz="0" izz="1e-04"/>
    </inertial>
  </link>
  <gazebo reference="tail_link_1">
    <material>Gazebo/Gray</material>
  </gazebo>
  <link name="tail_mass">
    <visual>
      <origin rpy="0 0 0" xyz="0 0 0"/>
      <geometry>
        <sphere radius="0.04"/>
      </geometry>
      <material name="gray"/>
    </visual>
    <inertial>
      <mass value="0.2764"/>
      <inertia ixx="2.764e-04" ixy="0" ixz="0" iyy="2.764e-04" iyz="0" izz="2.764e-04"/>
    </inertial>
  </link>
  <gazebo reference="tail_mass">
    <material>Gazebo/Gray</material>
  </gazebo>

  <!-- Tail joint -->
  <joint name="body_tail_joint_0" type="revolute">
    <parent link="body"/>
    <child link="tail_link_0"/>
    <axis xyz="1 0 0"/>
    <origin xyz="0 0 0.052"/>
    <limit effort="10" lower="-1.57" upper="1.57" velocity="30"/>
    <dynamics damping="0.0" friction="0.0"/>
  </joint>
  <!-- Transmission elements required for Gazebo -->
  <transmission name="transmission_body_tail_joint_0">
    <type>transmission_interface/SimpleTransmission</type>
    <joint name="body_tail_joint_0">
      <hardwareInterface>hardware_interface/EffortJointInterface</hardwareInterface>
    </joint>
    <actuator name="motor_body_tail_joint_0">
      <hardwareInterface>EffortJointInterface</hardwareInterface>
      <mechanicalReduction>1</mechanicalReduction>
    </actuator>
  </transmission>
  <joint name="body_tail_joint_1" type="revolute">
    <parent link="tail_link_0"/>
    <child link="tail_link_1"/>
    <axis xyz="0 1 0"/>
    <origin xyz="0 0 0"/>
    <limit effort="10" lower="-1.57" upper="1.57" velocity="30"/>
    <dynamics damping="0.0" friction="0.0"/>
  </joint>
  <!-- Transmission elements required for Gazebo -->
  <transmission name="transmission_body_tail_joint_1">
    <type>transmission_interface/SimpleTransmission</type>
    <joint name="body_tail_joint_1">
      <hardwareInterface>hardware_interface/EffortJointInterface</hardwareInterface>
    </joint>
    <actuator name="motor_body_tail_joint_1">
      <hardwareInterface>EffortJointInterface</hardwareInterface>
      <mechanicalReduction>1</mechanicalReduction>
    </actuator>
  </transmission>
  <joint name="tail_link_mass_joint" type="fixed">
    <parent link="tail_link_1"/>
    <child link="tail_mass"/>
    <origin xyz="0 0 0.6706"/>
    <dynamics damping="0.0" friction="0.0"/>
  </joint>
</robot>
